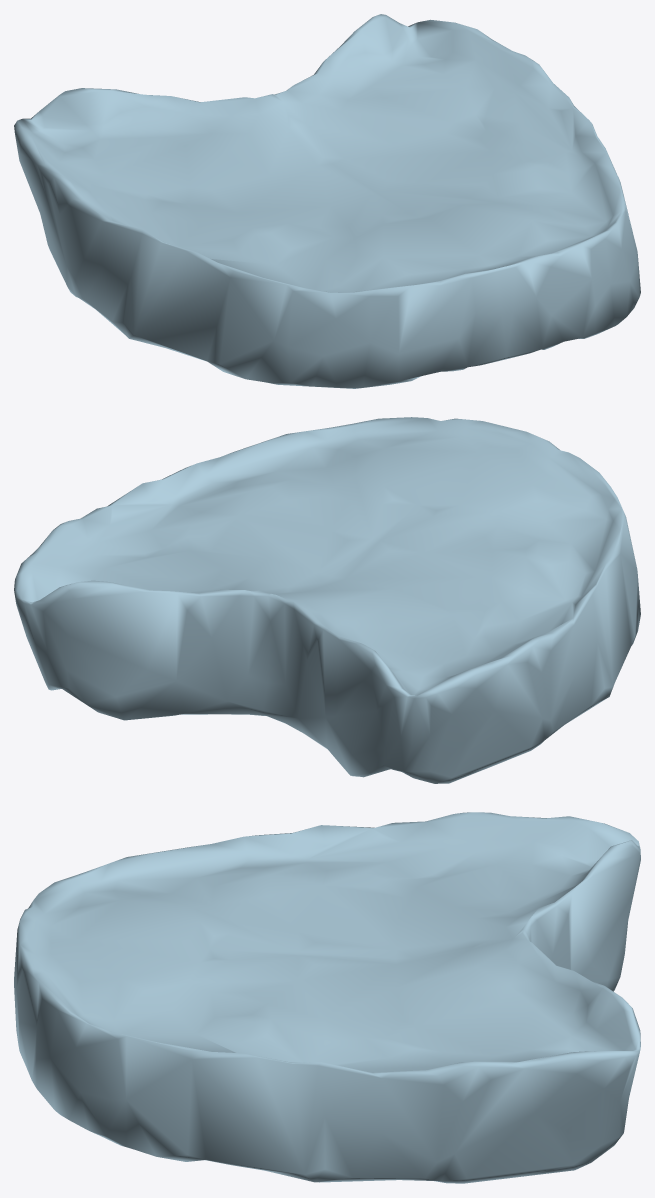
File: articulacoes-intervertebral-disc-t6-t7.glb
3 views of the same model, one above another, from view 1: azimuth 30°, elevation 25°; view 2: azimuth 150°, elevation 25°; view 3: azimuth 270°, elevation 25° (orthographic). The views are drawn at different scales.
Visible parts, largest first — view 1: Intervertebral disc T6-T7; view 2: Intervertebral disc T6-T7; view 3: Intervertebral disc T6-T7.
Part boxes in pixels (x1=…): Intervertebral disc T6-T7: x1=14, y1=14, x2=640, y2=388; Intervertebral disc T6-T7: x1=14, y1=417, x2=640, y2=783; Intervertebral disc T6-T7: x1=14, y1=812, x2=640, y2=1183.
Size of the model in its own units: 0.0339 by 0.00939 by 0.0351.
